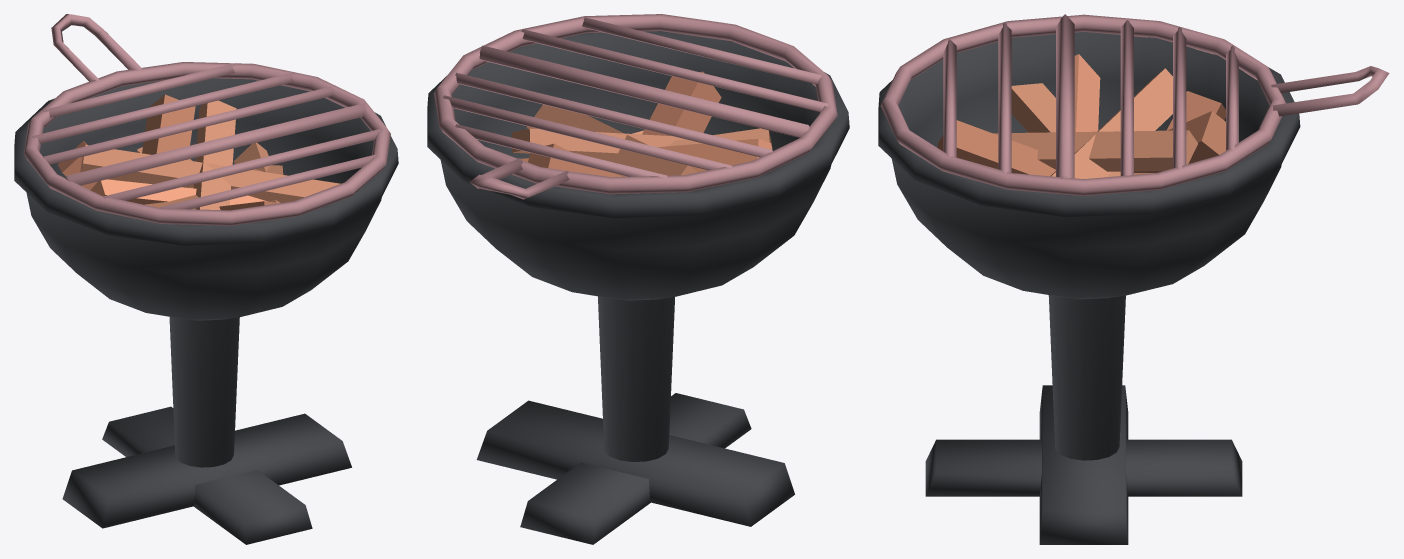
The model's file is grillWithWood.fbx.
3 renders of one model, left to right at view 1: azimuth 30°, elevation 25°; view 2: azimuth 150°, elevation 25°; view 3: azimuth 270°, elevation 25°, orthographic. The views are drawn at different scales.
Parts seen in each view (by area): view 1: Sphere; view 2: Sphere; view 3: Sphere.
Part boxes in pixels (bbox=[...]): Sphere: bbox=[14, 14, 398, 544]; Sphere: bbox=[427, 14, 849, 544]; Sphere: bbox=[878, 14, 1389, 544].
Bounding box in the file's own units: 95.96 × 102 × 116.
